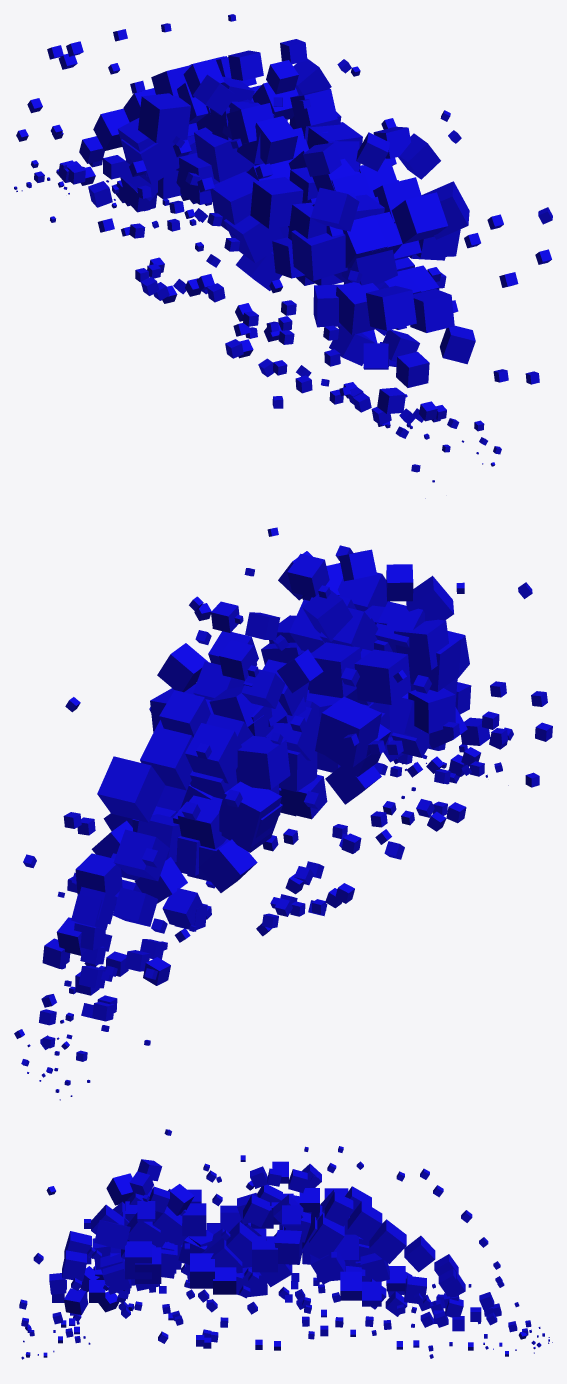
Rendered from Mystique_09.glb.
3 views of the same model, one above another, from view 1: azimuth 30°, elevation 25°; view 2: azimuth 150°, elevation 25°; view 3: azimuth 270°, elevation 25° (orthographic). The views are drawn at different scales.
Parts seen in each view (by area): view 1: Bone; view 2: Bone; view 3: Bone.
Part boxes in pixels (x1,y1,x2,y2): Bone: [14, 14, 552, 498]; Bone: [14, 527, 552, 1100]; Bone: [19, 1129, 552, 1359].
Size of what is drawn, in the model's own units: 0.629 by 0.6285 by 1.49.
